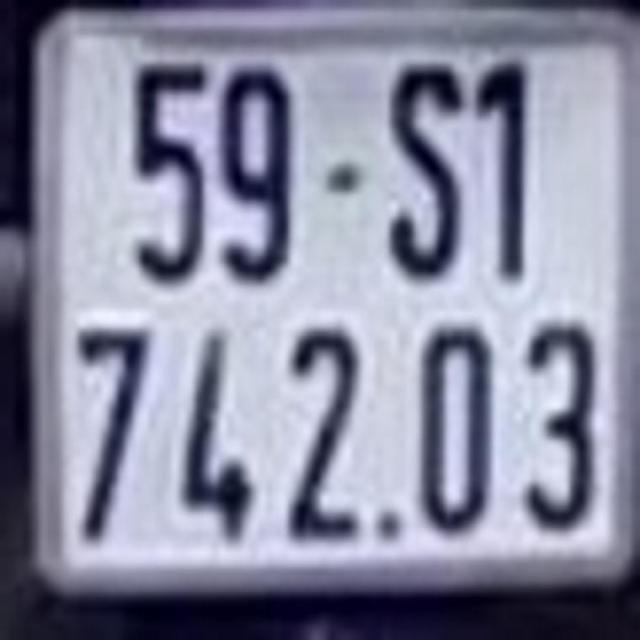0: (412, 314, 494, 536)
1: (474, 52, 536, 282)
2: (284, 318, 362, 540)
3: (518, 318, 599, 540)
4: (178, 321, 254, 545)
5: (128, 54, 206, 284)
7: (68, 314, 151, 545)
9: (217, 60, 298, 282)
S: (382, 52, 464, 280)
